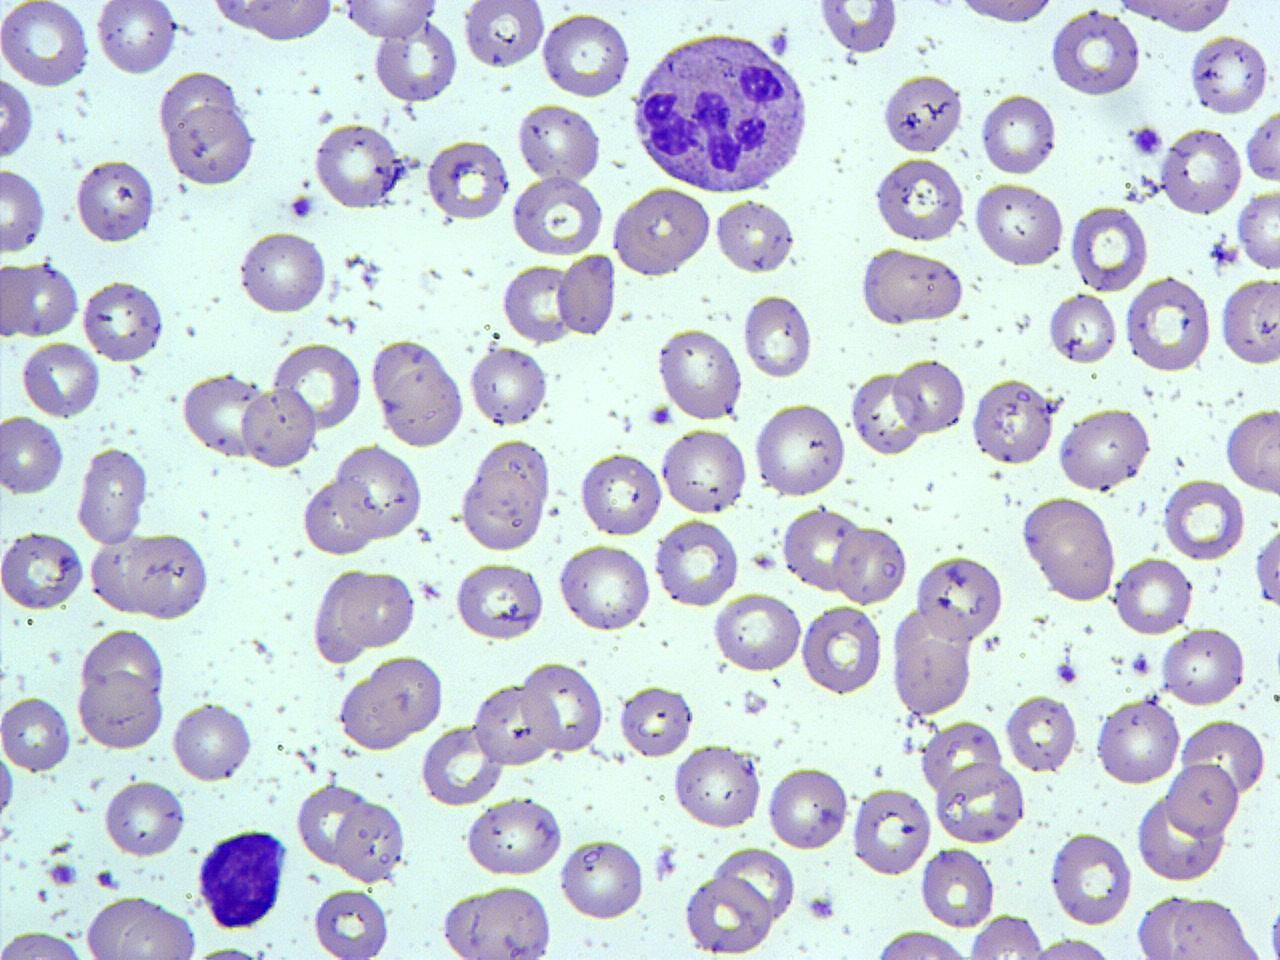Platelets: (1236, 190, 1280, 272), (1132, 122, 1164, 156), (804, 891, 838, 923), (1207, 238, 1239, 268), (289, 192, 317, 222), (1267, 904, 1280, 960), (748, 552, 783, 572), (646, 402, 674, 428), (1129, 650, 1153, 676), (1054, 662, 1078, 684), (1148, 689, 1162, 703)
RBC: (458, 436, 554, 554), (1018, 496, 1118, 604), (608, 185, 714, 278), (752, 400, 848, 499), (888, 609, 976, 716), (556, 541, 653, 635), (1134, 788, 1228, 884), (1133, 894, 1271, 960), (463, 793, 565, 880), (336, 442, 426, 541), (1123, 276, 1213, 375), (858, 245, 967, 327), (970, 178, 1066, 270), (438, 884, 556, 959), (655, 325, 746, 422), (1048, 6, 1142, 99), (272, 339, 364, 434), (912, 552, 1005, 644), (652, 515, 742, 611), (1055, 407, 1153, 494), (538, 8, 630, 100), (310, 122, 406, 210), (1047, 830, 1135, 926), (870, 158, 968, 244), (1093, 696, 1183, 788), (671, 742, 764, 832), (660, 424, 750, 516), (236, 229, 330, 318), (520, 659, 606, 756), (931, 760, 1027, 846), (125, 528, 211, 624), (711, 589, 804, 676), (508, 175, 606, 258), (371, 14, 460, 105), (798, 602, 884, 696), (849, 784, 932, 879), (967, 378, 1055, 467), (0, 1, 91, 88), (556, 837, 646, 924), (472, 680, 558, 768), (167, 101, 256, 188), (577, 450, 663, 538), (682, 872, 772, 958), (452, 560, 544, 642), (1159, 124, 1241, 218), (1068, 201, 1150, 294), (75, 670, 166, 752), (80, 896, 199, 960), (180, 370, 264, 460), (514, 101, 604, 185), (766, 763, 850, 853), (80, 278, 166, 364), (879, 72, 965, 158), (75, 445, 148, 546), (419, 723, 505, 808), (424, 137, 510, 222), (170, 699, 254, 786), (73, 157, 155, 245), (978, 90, 1058, 178), (1, 530, 86, 614), (467, 344, 549, 430), (1159, 626, 1245, 708), (1187, 31, 1269, 117), (1114, 552, 1194, 638), (1162, 477, 1244, 562), (712, 197, 798, 276), (102, 776, 185, 858), (240, 384, 318, 471), (782, 505, 860, 593), (18, 338, 101, 419), (919, 844, 997, 930), (94, 0, 179, 78), (370, 651, 446, 737), (741, 292, 815, 380), (718, 843, 798, 924), (80, 628, 166, 703), (310, 566, 374, 668), (337, 670, 410, 756), (848, 370, 920, 458), (1165, 758, 1241, 842), (834, 522, 908, 606), (892, 356, 968, 438), (1004, 692, 1078, 774), (616, 682, 694, 759), (344, 568, 416, 651), (334, 800, 405, 884), (461, 1, 546, 72), (5, 258, 80, 339), (502, 261, 574, 344), (312, 884, 391, 960), (1, 692, 73, 774), (295, 783, 366, 865), (301, 478, 374, 558), (87, 536, 157, 618), (0, 412, 66, 499), (1220, 275, 1280, 368), (1047, 290, 1119, 366), (556, 251, 618, 339), (1224, 404, 1278, 497), (815, 0, 899, 55), (1111, 0, 1235, 36), (341, 0, 446, 42), (0, 166, 47, 255), (964, 912, 1047, 960), (1234, 187, 1280, 272), (246, 0, 335, 44), (868, 927, 978, 960), (952, 0, 1061, 30), (0, 72, 36, 159), (1243, 104, 1279, 187), (0, 927, 90, 960), (1252, 511, 1280, 615), (0, 259, 31, 336), (188, 940, 271, 960)
WBC: (628, 26, 816, 198), (368, 336, 469, 448), (460, 440, 555, 554), (193, 824, 289, 930), (861, 244, 968, 327), (1135, 898, 1271, 960), (441, 886, 554, 959), (166, 101, 258, 190), (124, 532, 209, 628), (77, 666, 167, 752), (970, 377, 1055, 468)
